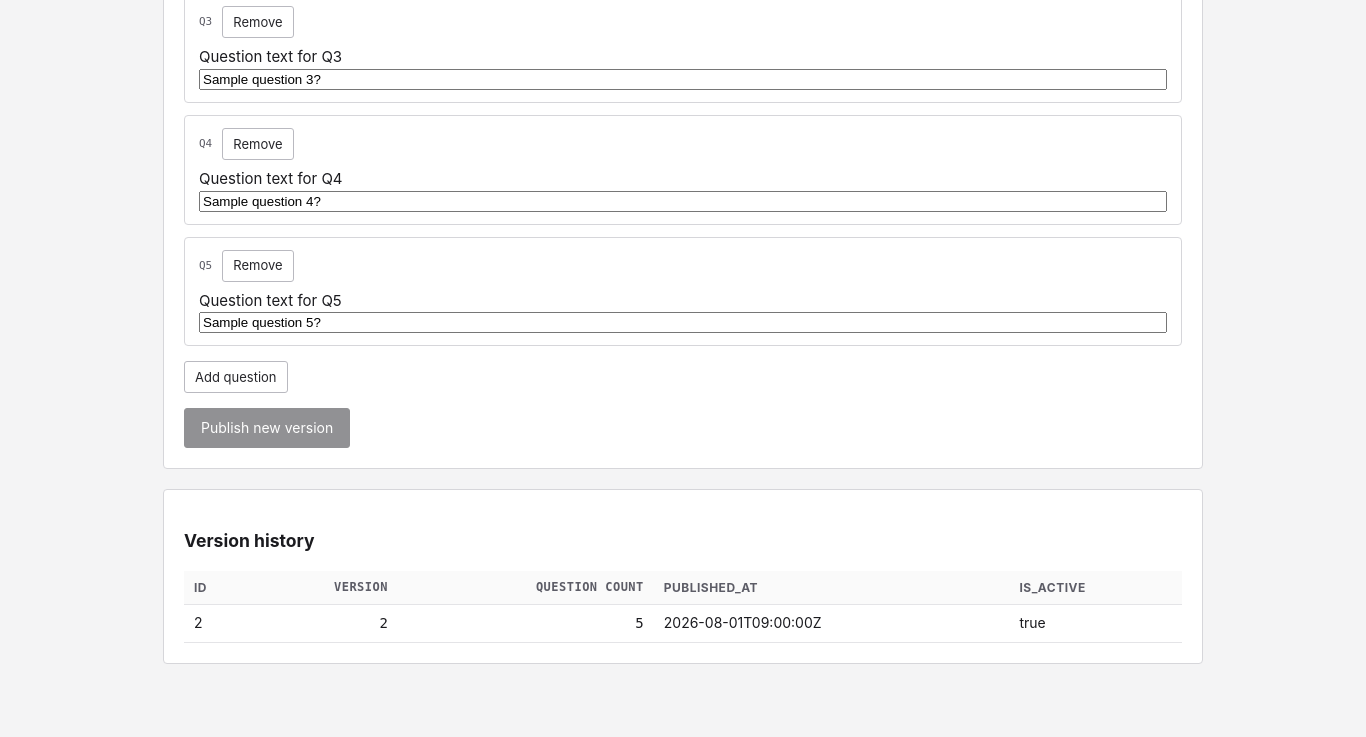
RuleEditor › publishing a new version refreshes the version-history list via state update, without navigation
The image size is (1366, 737).
(page scrolled)
What coordinates should you click on to do the following:
click the button with test id "add-question"
I would click on:
 (236, 377)
Its box is [184, 361, 288, 393].
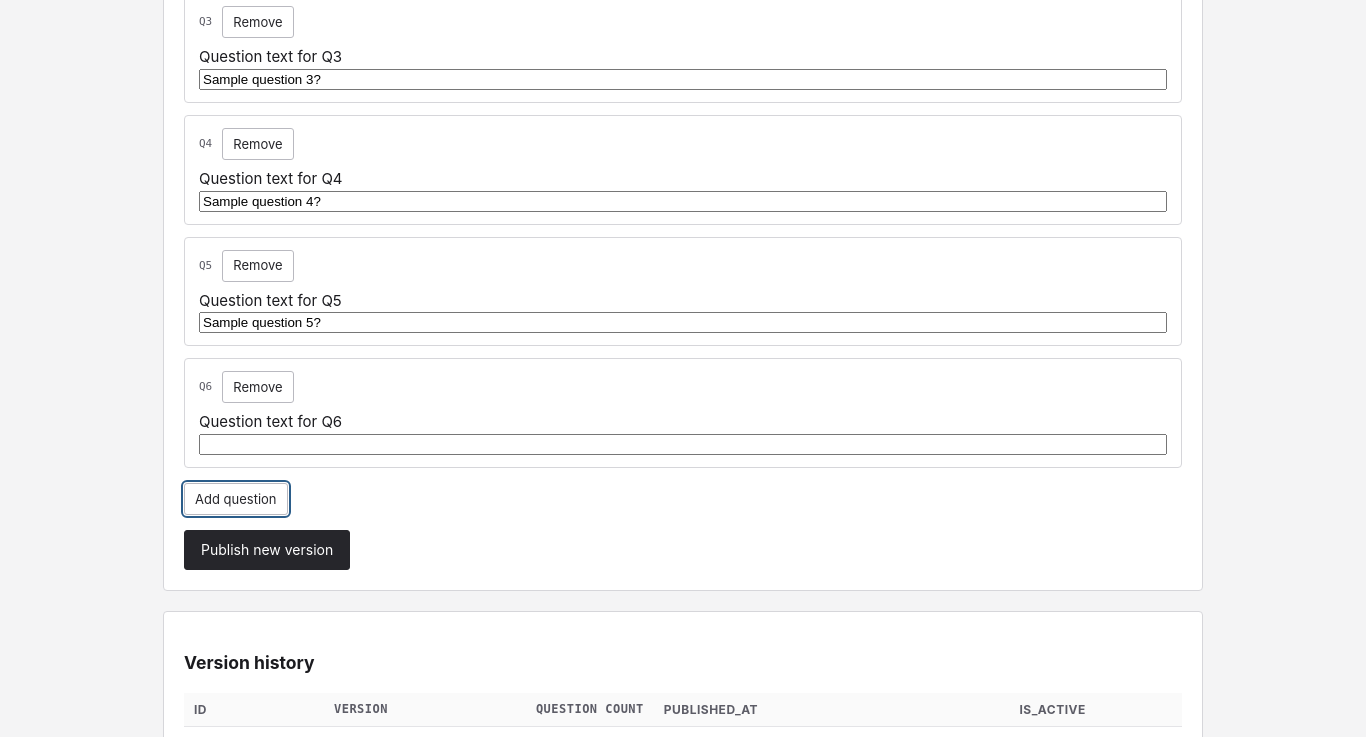
What coordinates should you click on to do the following:
click the button with test id "rule-publish"
I would click on:
 (267, 550)
Its box is [184, 530, 350, 570].
(page scrolled)
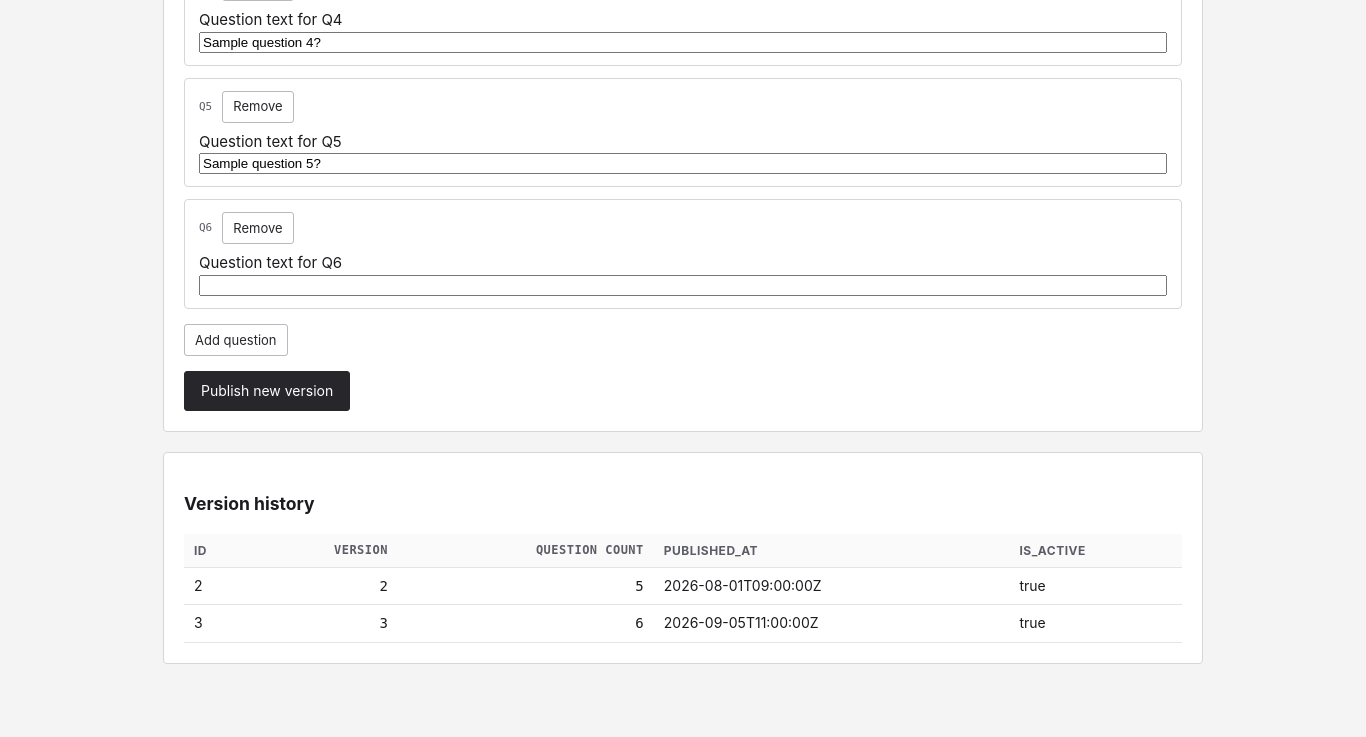
Now the text "2026-09-05T11:00:00Z" is shown, box [654, 605, 1010, 642]
